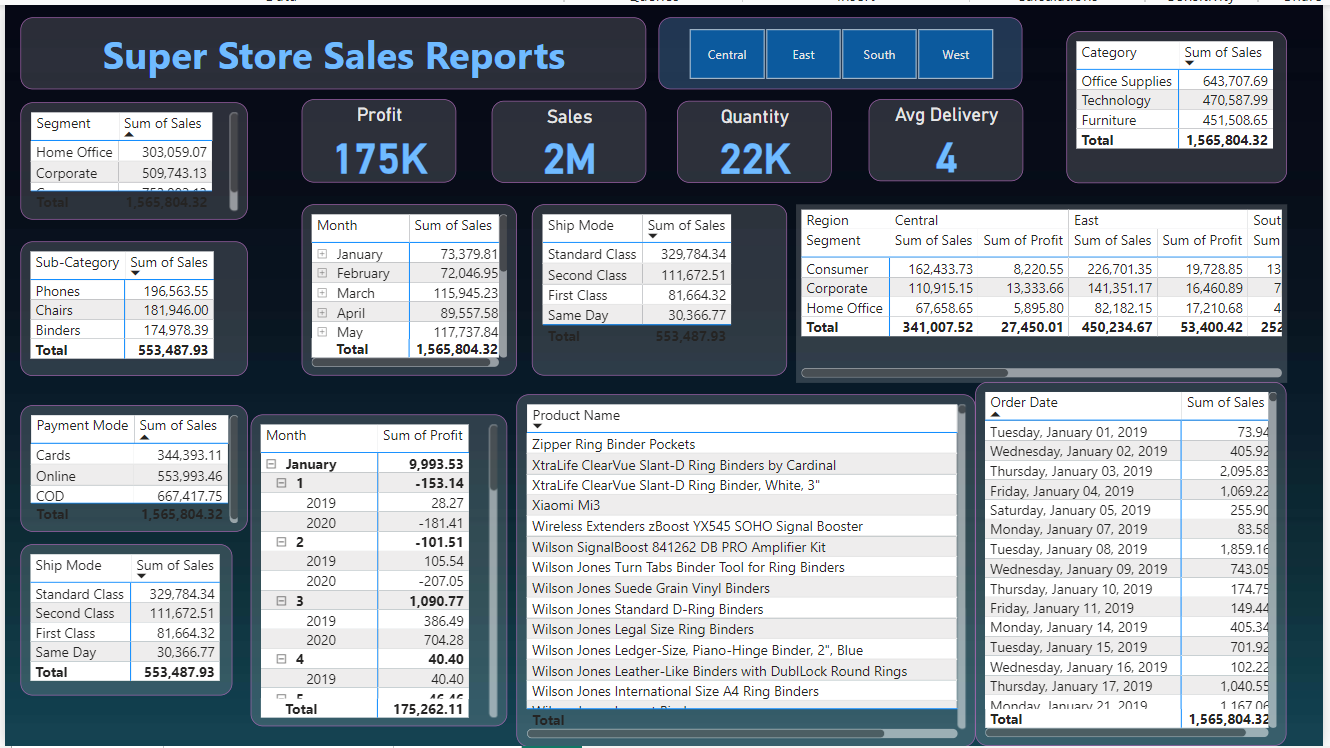

What the dashboard file says about the page in this screenshot:
{"tool":"powerbi","page":{"name":"Reports","canvas":[1280,720],"ordinal":2},"visuals":[{"type":"pivotTable","title":" Sales by Category","fields":{"Rows":["SuperStore_Sales_Dataset.Category"],"Values":["Sum(SuperStore_Sales_Dataset.Sales)"]},"box":[1030.7,25.5,214,147.7],"z":0},{"type":"pivotTable","title":" Sales by SubCategory","fields":{"Rows":["SuperStore_Sales_Dataset.Sub-Category"],"Values":["Sum(SuperStore_Sales_Dataset.Sales)"]},"box":[15,229.6,220.6,130.5],"z":1000},{"type":"pivotTable","title":"Monthly Sales by Year","fields":{"Rows":["SuperStore_Sales_Dataset.Order Date.Variation.Date Hierarchy.Month","SuperStore_Sales_Dataset.Order Date.Variation.Date Hierarchy.Day","SuperStore_Sales_Dataset.Order Date.Variation.Date Hierarchy.Year"],"Values":["Sum(SuperStore_Sales_Dataset.Sales)"]},"box":[288.7,193.6,208.9,166.4],"z":2000},{"type":"pivotTable","title":"Monthly Profit by Year","fields":{"Rows":["SuperStore_Sales_Dataset.Order Date.Variation.Date Hierarchy.Month","SuperStore_Sales_Dataset.Order Date.Variation.Date Hierarchy.Day","SuperStore_Sales_Dataset.Order Date.Variation.Date Hierarchy.Year"],"Values":["Sum(SuperStore_Sales_Dataset.Profit)"]},"box":[238.6,397.6,249.1,303.1],"z":3000},{"type":"pivotTable","title":"Sum of Sales and  Profit by State","fields":{"Rows":["SuperStore_Sales_Dataset.Segment"],"Values":["Sum(SuperStore_Sales_Dataset.Sales)","Sum(SuperStore_Sales_Dataset.Profit)"],"Columns":["SuperStore_Sales_Dataset.Region"]},"box":[767.5,193.6,477.2,173.2],"z":4000},{"type":"tableEx","title":" Sales by Ship Mode","fields":{"Values":["SuperStore_Sales_Dataset.Ship Mode","Sum(SuperStore_Sales_Dataset.Sales)"]},"box":[511.7,193.6,247.6,166.6],"z":5000},{"type":"tableEx","fields":{"Values":["SuperStore_Sales_Dataset.Segment","Sum(SuperStore_Sales_Dataset.Sales)"]},"box":[15,94.5,220.6,114],"z":6000},{"type":"tableEx","fields":{"Values":["SuperStore_Sales_Dataset.Payment Mode","Sum(SuperStore_Sales_Dataset.Sales)"]},"box":[15,388.6,220.6,123],"z":7000},{"type":"slicer","fields":{"Values":["SuperStore_Sales_Dataset.Region"]},"box":[634.4,12.1,353.4,69.9],"z":8000},{"type":"textbox","box":[14.5,12.1,607.8,69.9],"z":9000},{"type":"card","title":"Profit","fields":{"Values":["Sum(SuperStore_Sales_Dataset.Profit)"]},"box":[288.2,91.7,150,80.8],"z":10000},{"type":"card","title":"Sales","fields":{"Values":["Sum(SuperStore_Sales_Dataset.Sales)"]},"box":[472.8,92.9,150,79.6],"z":11000},{"type":"card","title":"Quantity","fields":{"Values":["Sum(SuperStore_Sales_Dataset.Quantity)"]},"box":[652.5,92.9,150,79.6],"z":12000},{"type":"card","title":"Avg Delivery","fields":{"Values":["Avg(SuperStore_Sales_Dataset.AvgDelivery)"]},"box":[838.2,91.7,150,79.6],"z":13000},{"type":"pivotTable","title":"Sales Forecast - 15 Days","fields":{"Rows":["SuperStore_Sales_Dataset.Order Date"],"Values":["Sum(SuperStore_Sales_Dataset.Sales)"]},"box":[942.4,366.8,302.3,353.2],"z":14000},{"type":"pivotTable","title":" Sales by Ship Mode","fields":{"Rows":["SuperStore_Sales_Dataset.Ship Mode"],"Values":["Sum(SuperStore_Sales_Dataset.Sales)"]},"box":[15,523.7,205.6,147.1],"z":15000},{"type":"tableEx","title":" Sales by Product","fields":{"Values":["SuperStore_Sales_Dataset.Product Name","Sum(SuperStore_Sales_Dataset.Sales)"]},"box":[496.7,378.1,445.7,342.1],"z":19001}]}

Visuals, with their boxes on the page's 1280x720 design canvas (x1, y1, x2, y2). These are canvas units, not pixel positions in the 1330x748 screenshot, which may show the page scaled, cropped or inside an application window:
" Sales by Category" pivotTable: [1031, 26, 1245, 173]
" Sales by SubCategory" pivotTable: [15, 230, 236, 360]
"Monthly Sales by Year" pivotTable: [289, 194, 498, 360]
"Monthly Profit by Year" pivotTable: [239, 398, 488, 701]
"Sum of Sales and  Profit by State" pivotTable: [768, 194, 1245, 367]
" Sales by Ship Mode" tableEx: [512, 194, 759, 360]
tableEx - SuperStore_Sales_Dataset.Segment x Sum(SuperStore_Sales_Dataset.Sales): [15, 94, 236, 208]
tableEx - SuperStore_Sales_Dataset.Payment Mode x Sum(SuperStore_Sales_Dataset.Sales): [15, 389, 236, 512]
slicer - SuperStore_Sales_Dataset.Region: [634, 12, 988, 82]
textbox: [14, 12, 622, 82]
"Profit" card: [288, 92, 438, 172]
"Sales" card: [473, 93, 623, 172]
"Quantity" card: [652, 93, 802, 172]
"Avg Delivery" card: [838, 92, 988, 171]
"Sales Forecast - 15 Days" pivotTable: [942, 367, 1245, 720]
" Sales by Ship Mode" pivotTable: [15, 524, 221, 671]
" Sales by Product" tableEx: [497, 378, 942, 720]
